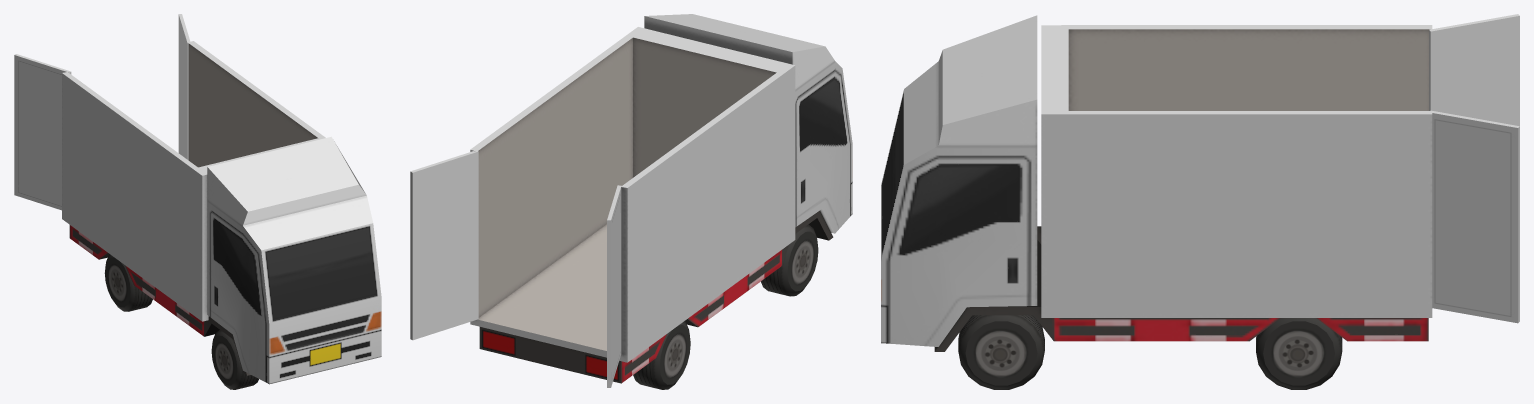
The model's file is Car_cut_roof.FBX.
3 renders of one model, left to right at view 1: azimuth 30°, elevation 25°; view 2: azimuth 150°, elevation 25°; view 3: azimuth 270°, elevation 25°, orthographic. The views are drawn at different scales.
Visible parts, largest first — view 1: CarVender, CarDoor001, Wheel003, CarDoor, Wheel002; view 2: CarVender, CarDoor, CarDoor001, Wheel003, Wheel002; view 3: CarVender, CarDoor, CarDoor001, Wheel, Wheel001.
Boxes of the visible parts, x1,y1,x2,y2 form: CarVender: [62, 41, 381, 384]; CarDoor001: [14, 54, 71, 210]; Wheel003: [211, 330, 258, 389]; CarDoor: [178, 14, 190, 160]; Wheel002: [104, 254, 152, 311]; CarVender: [470, 14, 852, 383]; CarDoor: [410, 151, 478, 340]; CarDoor001: [607, 185, 621, 387]; Wheel003: [761, 224, 818, 296]; Wheel002: [633, 321, 690, 389]; CarVender: [881, 15, 1432, 351]; CarDoor: [1430, 110, 1519, 323]; CarDoor001: [1429, 14, 1519, 126]; Wheel: [958, 315, 1044, 389]; Wheel001: [1256, 318, 1342, 389].
Bounding box in the file's own units: 1.37 × 1.66 × 3.24.
2 materials, 2 textured.
